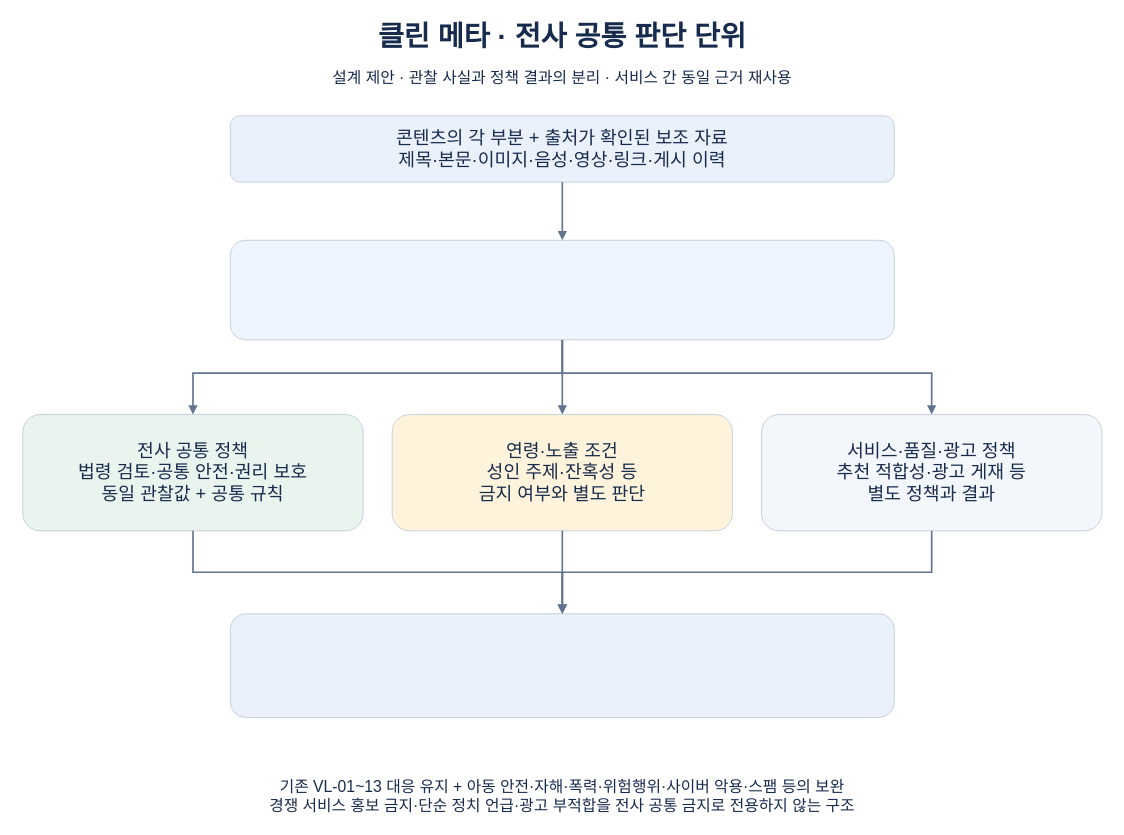
Image size: 1124x835. Some labels were removed from this diagram. Here are the shapes that lost their labels. From the top down, the centre of each, then its label:
At pixel 561 289: "공통 관찰값 무엇이 있는가 + 어느 부분인가 + 확인 범위 존재 / 부재 / 판단 불가 · 근거 위치·버전".
At pixel 561 665: "공통 결과와 서비스별 결과의 연결 공통 정책 결과 / 별도 연령·서비스 결과 / 검사 범위 법 위반 확정·전체 유통 허용과 구분".
